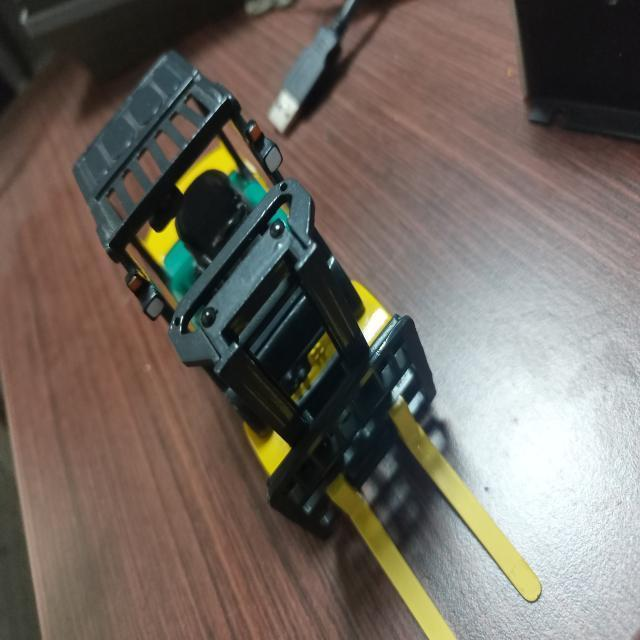forklift: (71, 50, 437, 543)
